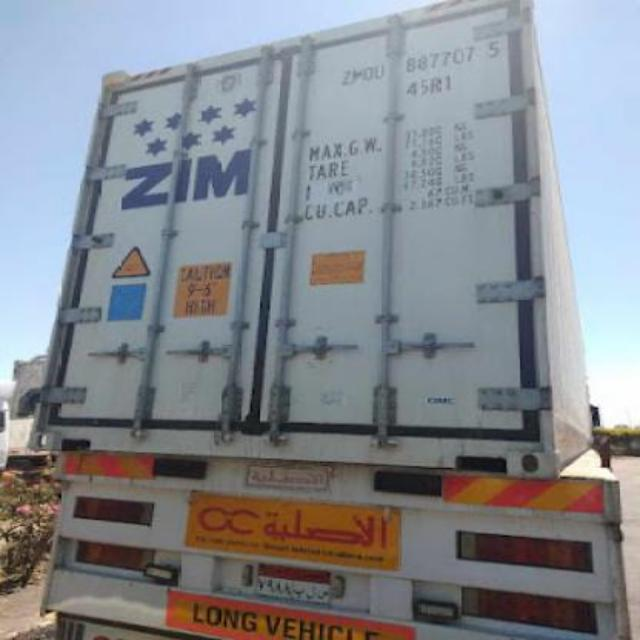0: (452, 49, 464, 65)
5: (486, 40, 499, 60)
7: (462, 45, 478, 63), (428, 51, 442, 67), (440, 49, 452, 65)
8: (404, 54, 416, 74), (418, 52, 428, 72)
M: (352, 66, 364, 82)
O: (364, 65, 374, 81)
U: (374, 63, 386, 81)
Z: (340, 67, 352, 85)
